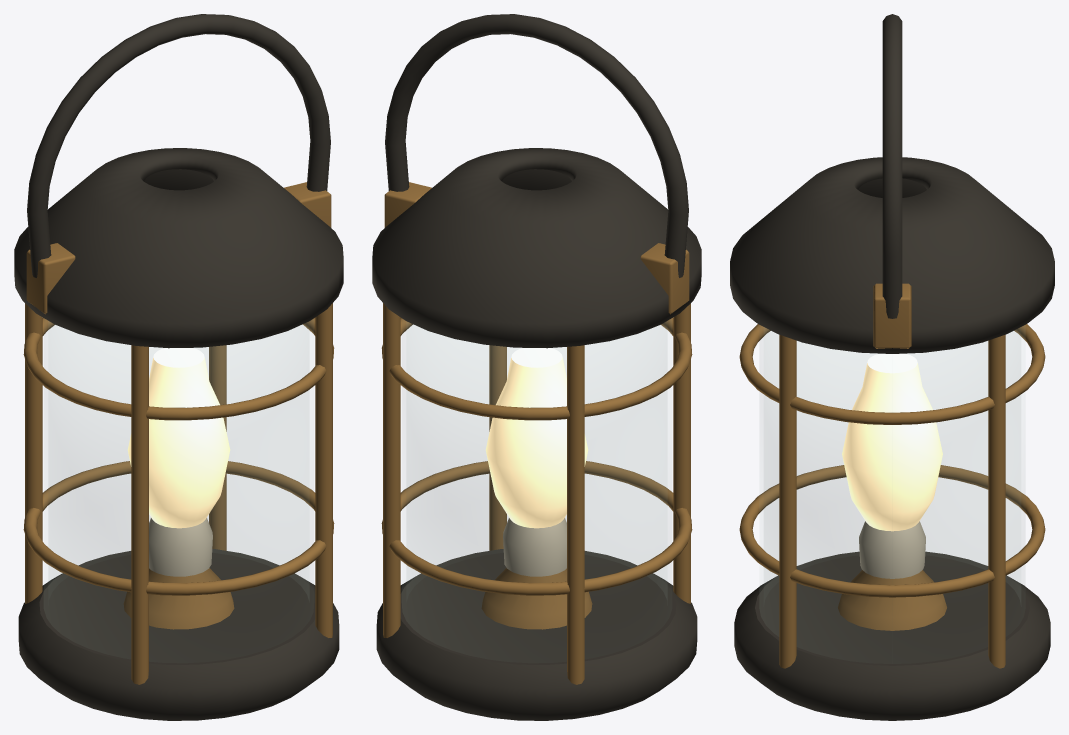
Rendered from rpg-mansion-guarded-carry-lantern-01.glb.
The picture shows the model from 3 angles, left to right: view 1: azimuth 30°, elevation 25°; view 2: azimuth 150°, elevation 25°; view 3: azimuth 270°, elevation 25°; orthographic projection.
Parts seen in each view (by area): view 1: rpg-mansion-guarded-carry-lantern-01; view 2: rpg-mansion-guarded-carry-lantern-01; view 3: rpg-mansion-guarded-carry-lantern-01.
Boxes of the visible parts, box(x1,y1,x2,y2) form: rpg-mansion-guarded-carry-lantern-01: box(14, 14, 343, 720); rpg-mansion-guarded-carry-lantern-01: box(372, 14, 701, 720); rpg-mansion-guarded-carry-lantern-01: box(730, 14, 1054, 720).
Bounding box in the file's own units: 0.234 × 0.477 × 0.222.
